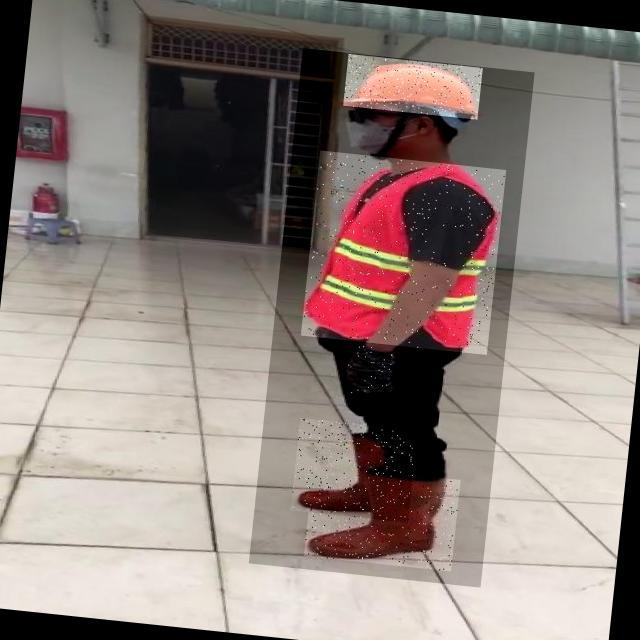Helmet: (343, 54, 483, 120)
Human: (248, 48, 534, 588)
Safety Boot: (304, 464, 461, 571), (290, 418, 417, 523)
Safety Vest: (301, 150, 506, 355)
